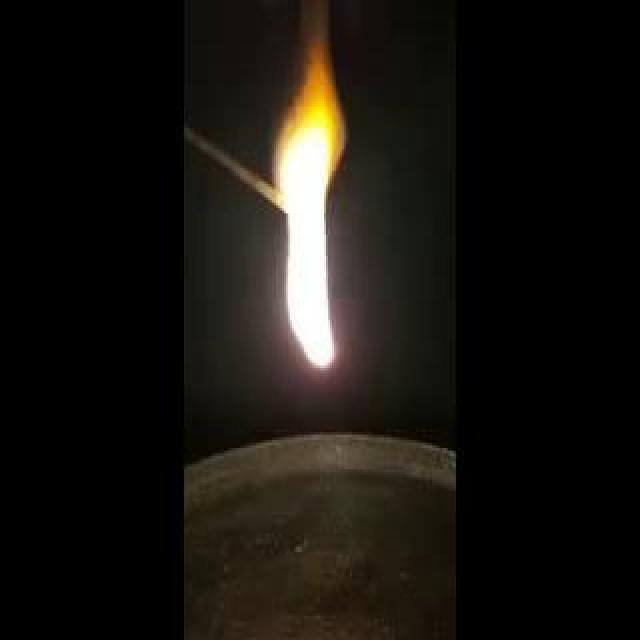Fire: (78, 222, 303, 314)
